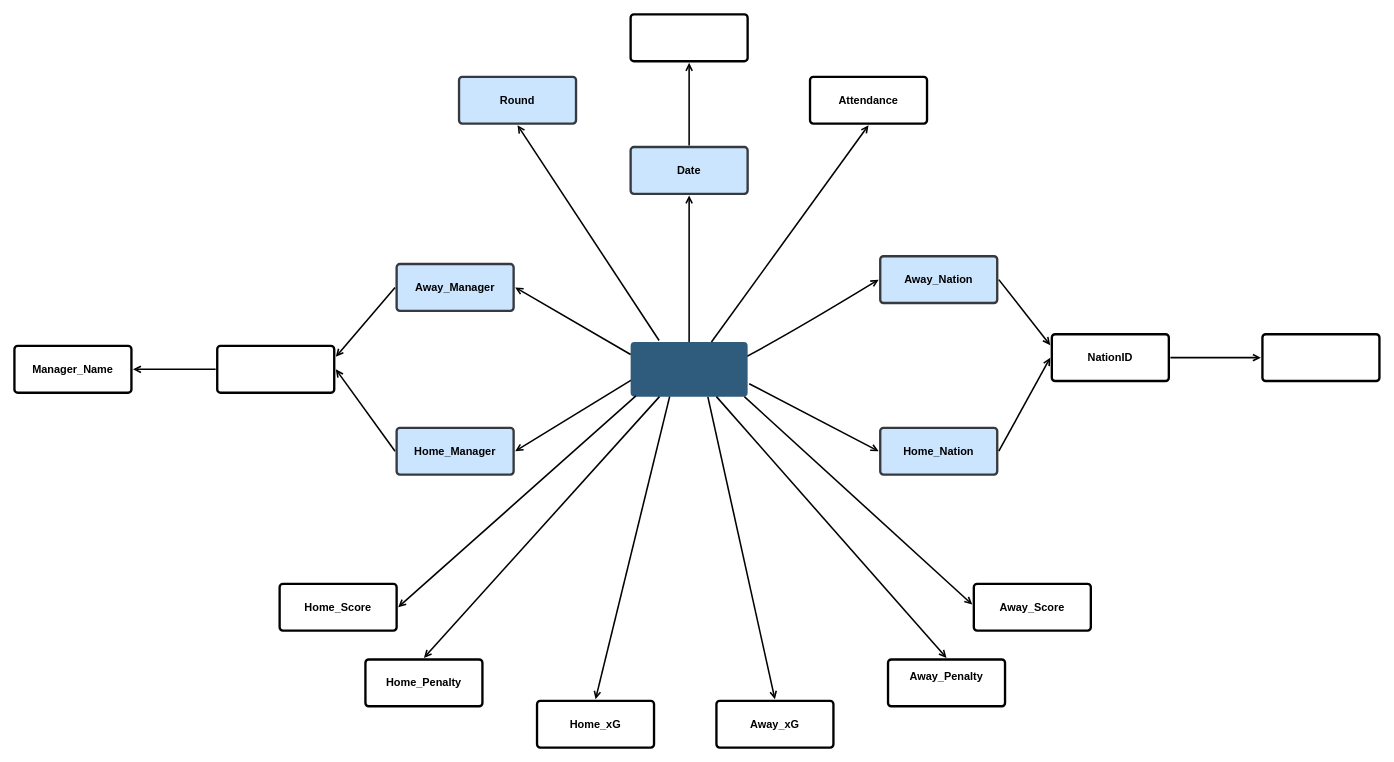
Image size: 1394x762. Some labels were removed from this diagram. Here are the shapes that lost their labels. From the top down, the centre of each, then its label:
At point 688,37: "Year".
At point 275,369: "ManagerID".
At point 688,369: "Id".
At point 1320,357: "Nation_Name".
